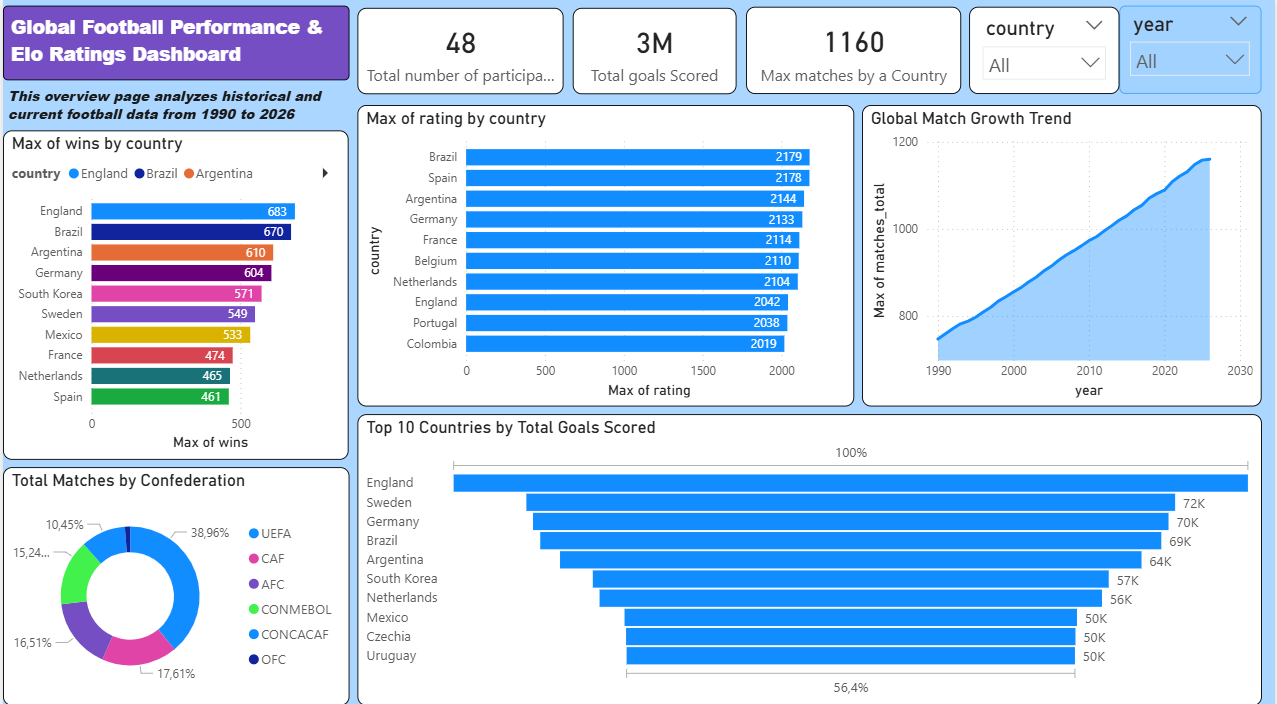

This screenshot's page, from the dashboard's own definition file:
{"tool":"powerbi","page":{"name":"Global Overview","canvas":[1280,720],"ordinal":0},"visuals":[{"type":"slicer","title":"YEAR","fields":{"Values":["elo_ratings_wc2026.year"]},"box":[1123.3,6.7,143.3,88.9],"z":0},{"type":"clusteredBarChart","fields":{"Category":["elo_ratings_wc2026.country"],"Y":["Max(elo_ratings_wc2026.rating)"]},"box":[356.7,106.7,500,303.3],"z":1000},{"type":"donutChart","title":"Total Matches by Confederation","fields":{"Category":["elo_ratings_wc2026.confederation"],"Y":["Sum(elo_ratings_wc2026.matches_total)"]},"box":[0,471.1,348.9,240],"z":2000},{"type":"funnel","title":"Top 10 Countries by Total Goals Scored","fields":{"Y":["Sum(elo_ratings_wc2026.goals_for)"],"Category":["elo_ratings_wc2026.country"]},"box":[356.7,417.8,910,293.3],"z":3000},{"type":"card","fields":{"Values":["Sum(elo_ratings_wc2026.goals_for)"]},"box":[573.3,8.9,164.4,86.7],"z":4000},{"type":"card","fields":{"Values":["Max(elo_ratings_wc2026.matches_total)"]},"box":[747.8,7.8,216.7,87.8],"z":5000},{"type":"card","fields":{"Values":["Count(elo_ratings_wc2026.country)"]},"box":[356.7,8.9,207.8,86.7],"z":6000},{"type":"slicer","title":"Cross-country filter","fields":{"Values":["elo_ratings_wc2026.country"]},"box":[972.2,7.8,151.1,87.8],"z":7000},{"type":"areaChart","title":"Global Match Growth Trend","fields":{"Category":["elo_ratings_wc2026.year"],"Y":["Max(elo_ratings_wc2026.matches_total)"]},"box":[864.4,106.7,402.2,303.3],"z":8000},{"type":"textbox","box":[0,6.7,348.9,75.6],"z":9000},{"type":"textbox","box":[0,82.2,348.9,50],"z":10000},{"type":"barChart","title":"Max of wins by country","fields":{"Y":["Max(elo_ratings_wc2026.wins)"],"Category":["elo_ratings_wc2026.country","elo_ratings_wc2026.year"],"Series":["elo_ratings_wc2026.country"]},"box":[0,132.2,347.8,331.1],"z":11000}]}

Visuals, with their boxes in screenshot pixels (x1, y1, x2, y2), scaled from the page's 1280x720 canvas onto the 1277x704 screenshot:
"YEAR" slicer: [x1=1121, y1=7, x2=1264, y2=93]
clusteredBarChart - elo_ratings_wc2026.country x Max(elo_ratings_wc2026.rating): [x1=356, y1=104, x2=855, y2=401]
"Total Matches by Confederation" donutChart: [x1=0, y1=461, x2=348, y2=695]
"Top 10 Countries by Total Goals Scored" funnel: [x1=356, y1=409, x2=1264, y2=695]
card - Sum(elo_ratings_wc2026.goals_for): [x1=572, y1=9, x2=736, y2=93]
card - Max(elo_ratings_wc2026.matches_total): [x1=746, y1=8, x2=962, y2=93]
card - Count(elo_ratings_wc2026.country): [x1=356, y1=9, x2=563, y2=93]
"Cross-country filter" slicer: [x1=970, y1=8, x2=1121, y2=93]
"Global Match Growth Trend" areaChart: [x1=862, y1=104, x2=1264, y2=401]
textbox: [x1=0, y1=7, x2=348, y2=80]
textbox: [x1=0, y1=80, x2=348, y2=129]
"Max of wins by country" barChart: [x1=0, y1=129, x2=347, y2=453]
